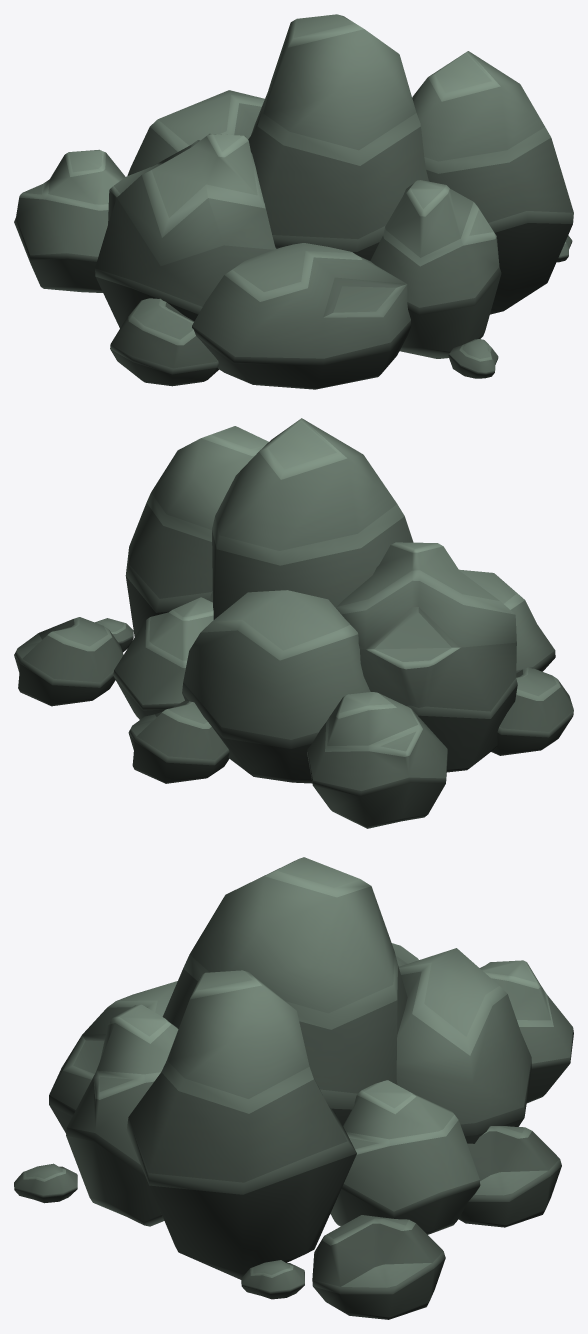
Rendered from arangement_stone_L.fbx.
3 renders of one model, top to bottom at view 1: azimuth 30°, elevation 25°; view 2: azimuth 150°, elevation 25°; view 3: azimuth 270°, elevation 25°, orthographic. The views are drawn at different scales.
Visible parts, largest first — view 1: arangement_stone_L; view 2: arangement_stone_L; view 3: arangement_stone_L.
Boxes of the visible parts, x1,y1,x2,y2 form: arangement_stone_L: [14, 14, 573, 389]; arangement_stone_L: [14, 418, 573, 828]; arangement_stone_L: [14, 857, 573, 1319].
Bounding box in the file's own units: 524 × 325 × 460.
Materials: 1 (1 with a texture image).
